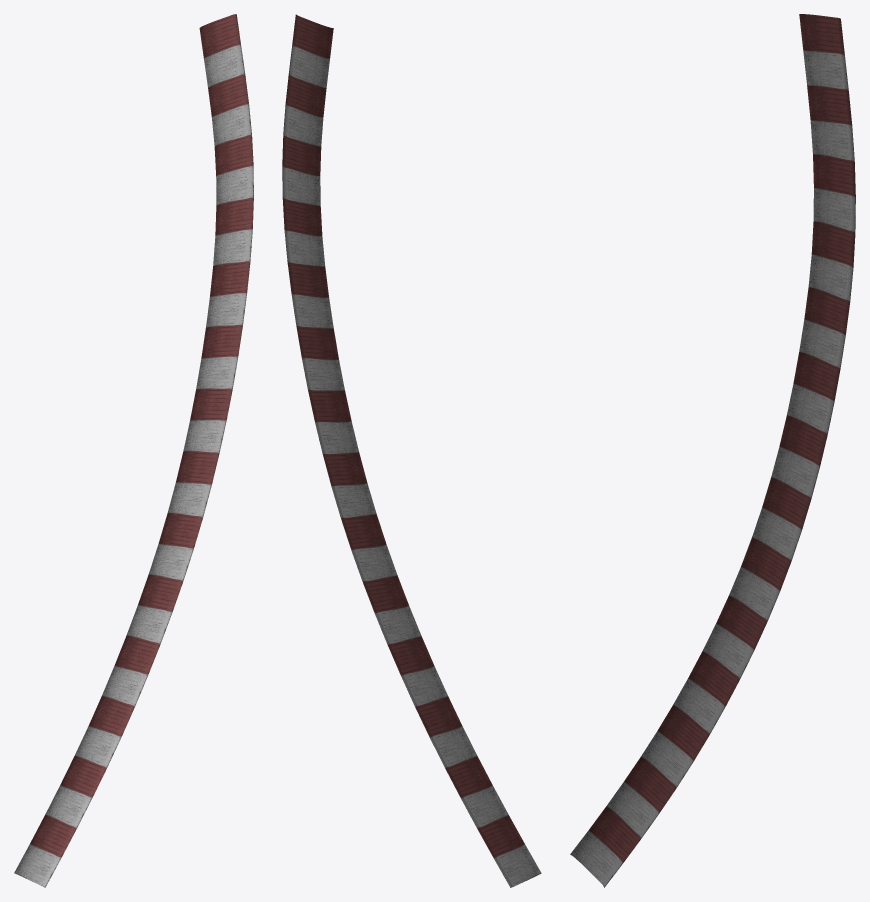
File: _1KERB_02_06.obj
3 views of the same model, side by side, from view 1: azimuth 30°, elevation 25°; view 2: azimuth 150°, elevation 25°; view 3: azimuth 330°, elevation 25° (orthographic). The views are drawn at different scales.
Parts seen in each view (by area): view 1: _1KERB_02_06_Scene.243; view 2: _1KERB_02_06_Scene.243; view 3: _1KERB_02_06_Scene.243.
Part boxes in pixels (x1=…): _1KERB_02_06_Scene.243: x1=14, y1=14, x2=253, y2=887; _1KERB_02_06_Scene.243: x1=282, y1=14, x2=541, y2=887; _1KERB_02_06_Scene.243: x1=570, y1=14, x2=855, y2=887.
Bounding box in the file's own units: 851 × 2689 × 64.78.
